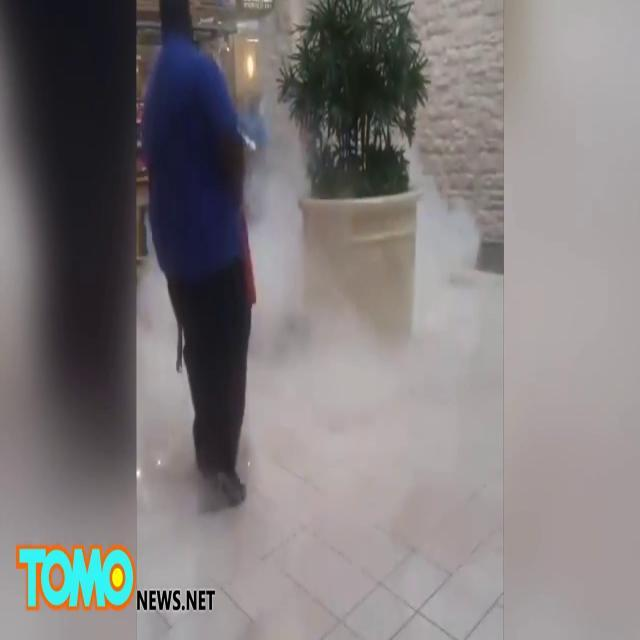Smoke: (504, 0, 640, 637), (137, 18, 278, 516), (240, 37, 316, 338)
